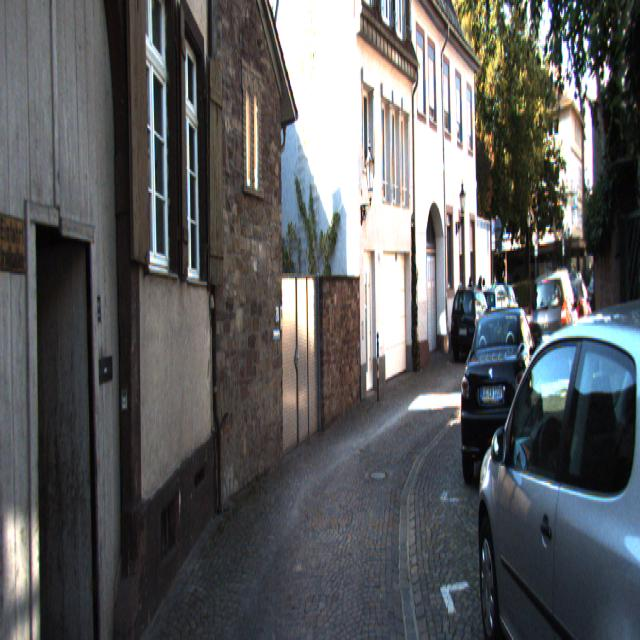Car: (470, 296, 639, 638), (459, 303, 543, 494), (529, 266, 582, 376), (450, 285, 494, 362), (475, 285, 516, 352)
